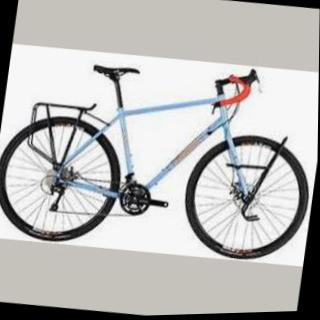Bike: (0, 39, 319, 273)
